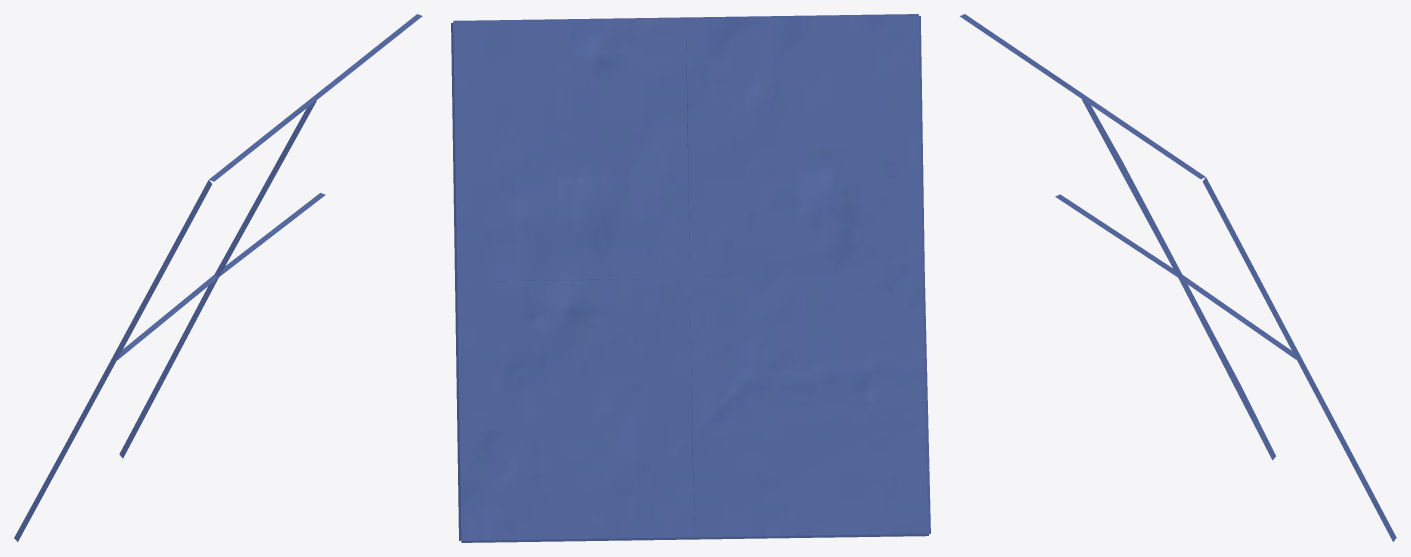
The picture shows the model from 3 angles, left to right: view 1: azimuth 30°, elevation 25°; view 2: azimuth 150°, elevation 25°; view 3: azimuth 270°, elevation 25°; orthographic projection. The views are drawn at different scales.
Bounding box in the file's own units: 79071 × 70810 × 67637.
1 material, 1 textured.
